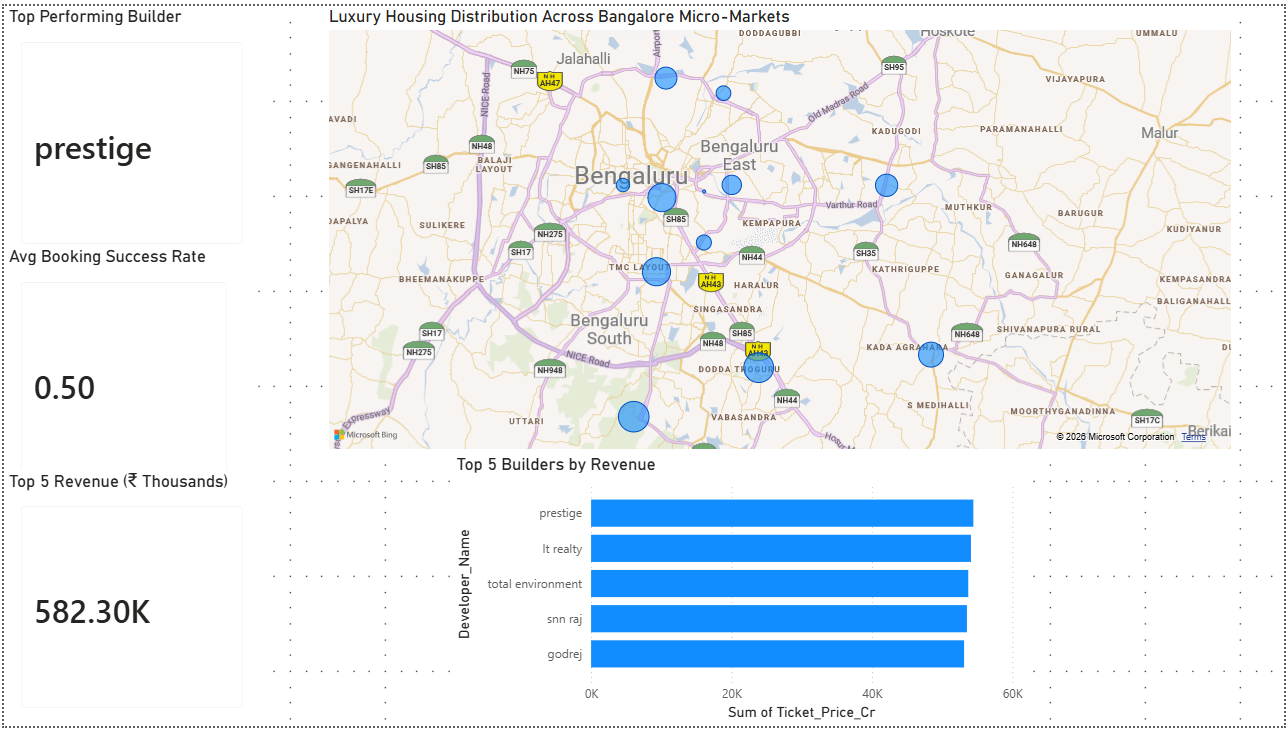

The dashboard page shown, as its layout file describes it:
{"tool":"powerbi","page":{"name":"Geographical Insights & Key Performance Indicators","canvas":[1280,720],"ordinal":2},"visuals":[{"type":"map","title":"Luxury Housing Distribution Across Bangalore Micro-Markets","fields":{"Category":["real_estate_db real_estate_data.Micro_Market"],"Size":["CountNonNull(real_estate_db real_estate_data.Property_ID)"]},"box":[320,0,912,448],"z":0},{"type":"cardVisual","title":"Top Performing Builder","fields":{"Data":["real_estate_db real_estate_data.Top_Builder"]},"box":[0,0,256,256],"z":1000},{"type":"cardVisual","title":"Avg Booking Success Rate","fields":{"Data":["real_estate_db real_estate_data.Booking_Success_Rate"]},"box":[0,240,240,256],"z":3000},{"type":"cardVisual","title":"Top 5 Revenue (₹ Thousands)","fields":{"Data":["real_estate_db real_estate_data.Top5_Revenue"]},"box":[0,464,256,256],"z":3500},{"type":"clusteredBarChart","title":"Top 5 Builders by Revenue","fields":{"Category":["real_estate_db real_estate_data.Developer_Name"],"Y":["Sum(real_estate_db real_estate_data.Ticket_Price_Cr)"]},"box":[448,448,576,272],"z":4000}]}

Visuals, with their boxes in screenshot pixels (x1, y1, x2, y2), scaled from the page's 1280x720 canvas onto the 1288x729 screenshot:
"Luxury Housing Distribution Across Bangalore Micro-Markets" map: left=322, top=0, right=1240, bottom=454
"Top Performing Builder" cardVisual: left=0, top=0, right=258, bottom=259
"Avg Booking Success Rate" cardVisual: left=0, top=243, right=242, bottom=502
"Top 5 Revenue (₹ Thousands)" cardVisual: left=0, top=470, right=258, bottom=728
"Top 5 Builders by Revenue" clusteredBarChart: left=451, top=454, right=1030, bottom=728
